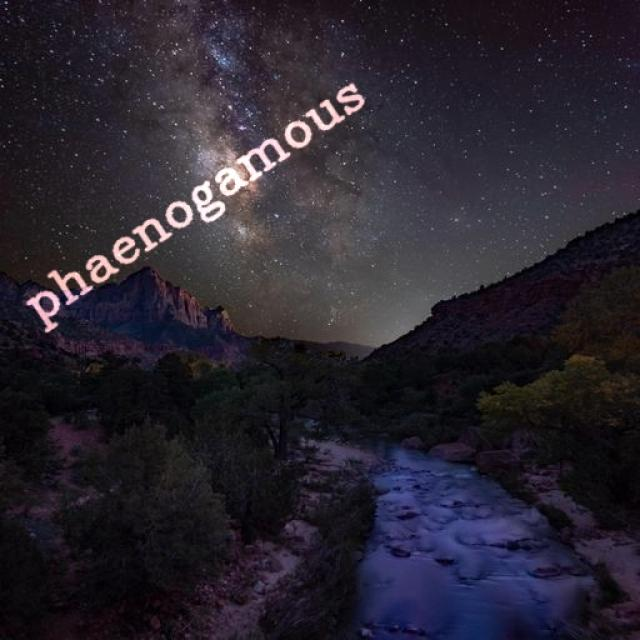watermark: (26, 64, 368, 331)
